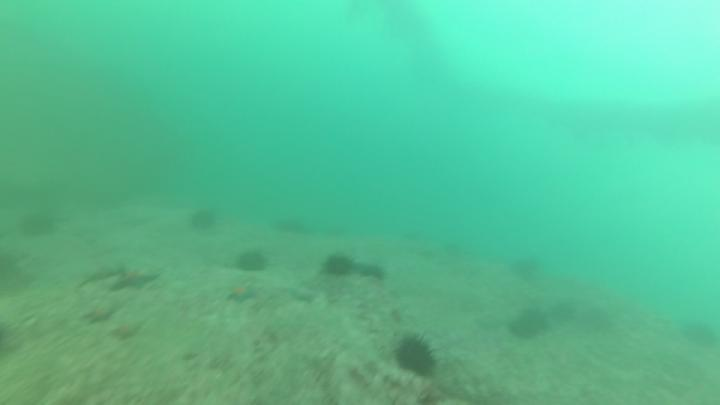echinus: (392, 331, 441, 380), (509, 303, 552, 344), (17, 212, 58, 241), (1, 247, 26, 294), (319, 250, 358, 280), (235, 249, 271, 275), (352, 260, 389, 285), (510, 253, 541, 281), (188, 207, 220, 233)
starfish: (110, 267, 162, 295), (225, 278, 263, 306), (109, 317, 147, 345), (84, 303, 122, 326)
